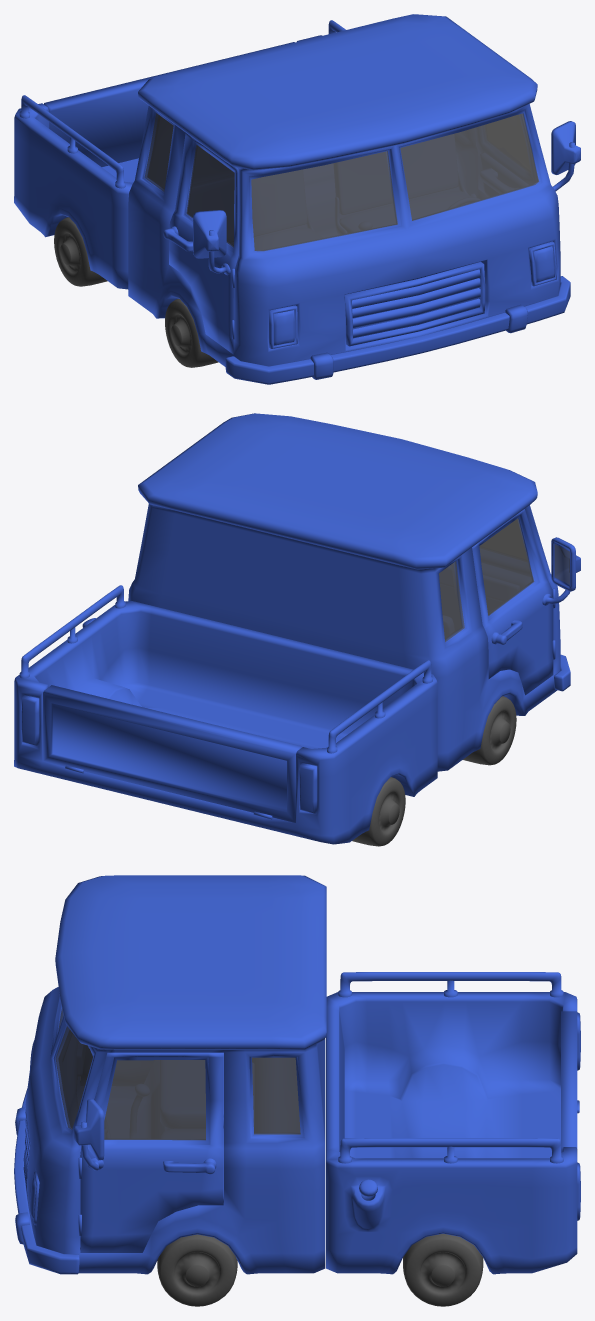
The model's file is Little-Truck.fbx.
The picture shows the model from 3 angles, top to bottom: view 1: azimuth 30°, elevation 25°; view 2: azimuth 150°, elevation 25°; view 3: azimuth 270°, elevation 25°; orthographic projection. The views are drawn at different scales.
Parts seen in each view (by area): view 1: CarPT1_002; view 2: CarPT1_002; view 3: CarPT1_002.
Part boxes in pixels (box(x1,y1,x2,y2)): CarPT1_002: box(14, 14, 580, 384); CarPT1_002: box(14, 413, 580, 846); CarPT1_002: box(14, 875, 580, 1306).
Bounding box in the file's own units: 4308 × 4997 × 2658.
